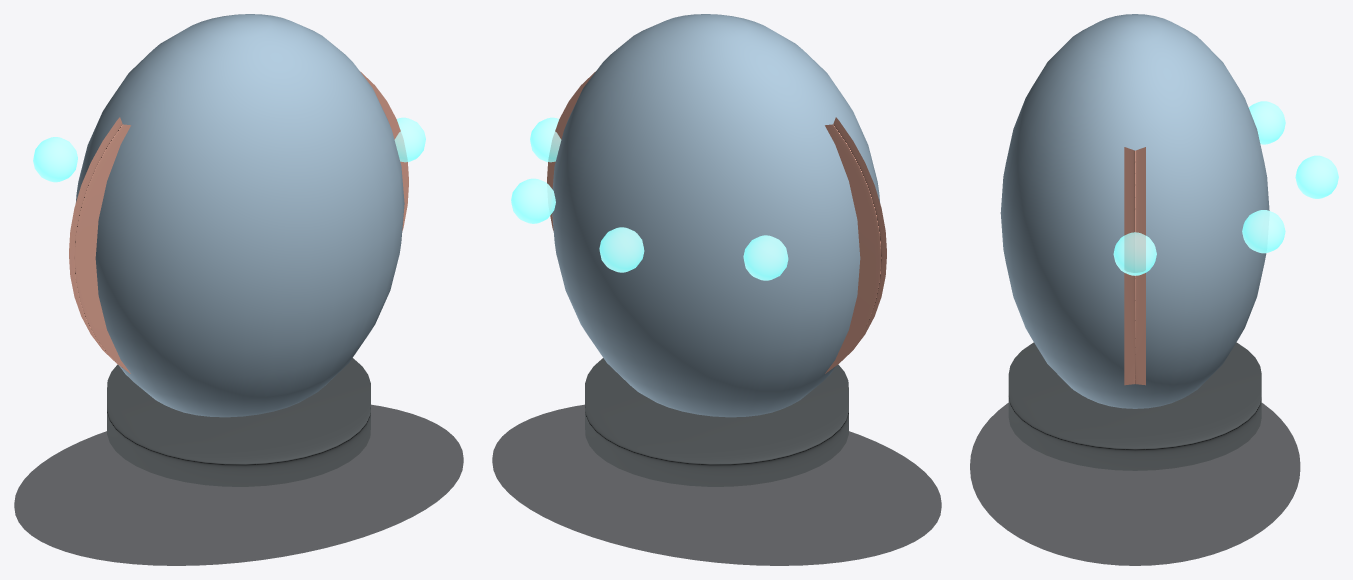
File: codex-smoke-beacon-prop.glb
The picture shows the model from 3 angles, left to right: view 1: azimuth 30°, elevation 25°; view 2: azimuth 150°, elevation 25°; view 3: azimuth 270°, elevation 25°; orthographic projection. The views are drawn at different scales.
Visible parts, largest first — view 1: PROP_AgentProp_PrimaryForm, PROP_AgentProp_ContactShadow, PROP_AgentProp_BaseCap, PROP_AgentProp_EquatorBand, PROP_AgentProp_Detail_4, PROP_AgentProp_Detail_1; view 2: PROP_AgentProp_PrimaryForm, PROP_AgentProp_ContactShadow, PROP_AgentProp_BaseCap, PROP_AgentProp_EquatorBand, PROP_AgentProp_Detail_4, PROP_AgentProp_Detail_3, PROP_AgentProp_Detail_2, PROP_AgentProp_Detail_1; view 3: PROP_AgentProp_PrimaryForm, PROP_AgentProp_ContactShadow, PROP_AgentProp_BaseCap, PROP_AgentProp_EquatorBand, PROP_AgentProp_Detail_3, PROP_AgentProp_Detail_1, PROP_AgentProp_Detail_2, PROP_AgentProp_Detail_4.
Boxes of the visible parts, x1,y1,x2,y2 form: PROP_AgentProp_PrimaryForm: [76, 14, 404, 417]; PROP_AgentProp_ContactShadow: [14, 404, 463, 565]; PROP_AgentProp_BaseCap: [107, 358, 370, 486]; PROP_AgentProp_EquatorBand: [69, 71, 408, 373]; PROP_AgentProp_Detail_4: [33, 137, 77, 182]; PROP_AgentProp_Detail_1: [394, 117, 425, 162]; PROP_AgentProp_PrimaryForm: [552, 14, 879, 417]; PROP_AgentProp_ContactShadow: [492, 404, 941, 565]; PROP_AgentProp_BaseCap: [585, 358, 848, 486]; PROP_AgentProp_EquatorBand: [547, 71, 886, 373]; PROP_AgentProp_Detail_4: [743, 235, 788, 280]; PROP_AgentProp_Detail_3: [599, 227, 644, 272]; PROP_AgentProp_Detail_2: [511, 178, 555, 223]; PROP_AgentProp_Detail_1: [530, 117, 561, 162]; PROP_AgentProp_PrimaryForm: [1000, 14, 1269, 408]; PROP_AgentProp_ContactShadow: [970, 403, 1300, 565]; PROP_AgentProp_BaseCap: [1008, 342, 1261, 470]; PROP_AgentProp_EquatorBand: [1124, 147, 1145, 385]; PROP_AgentProp_Detail_3: [1295, 155, 1338, 198]; PROP_AgentProp_Detail_1: [1113, 232, 1156, 275]; PROP_AgentProp_Detail_2: [1242, 210, 1285, 253]; PROP_AgentProp_Detail_4: [1249, 101, 1285, 144].
Bounding box in the file's own units: 1.16 × 1.23 × 0.9326.
